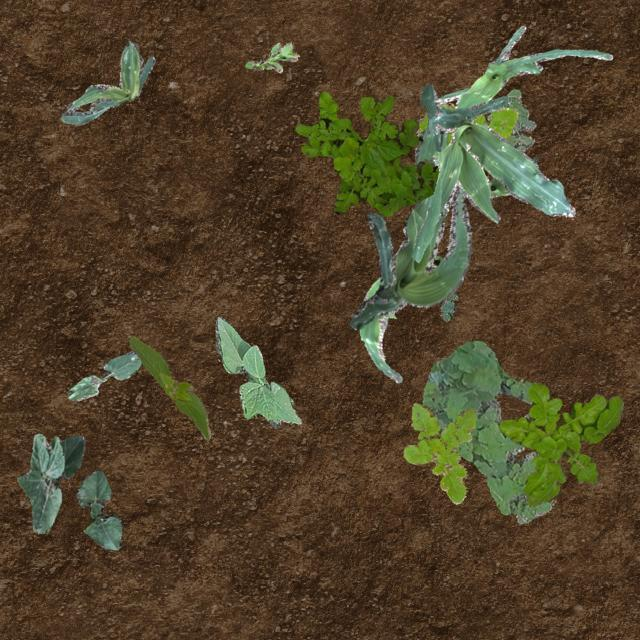crop: (348, 82, 470, 328), (410, 95, 574, 262), (432, 24, 612, 109), (214, 316, 300, 428), (128, 336, 210, 438), (59, 39, 154, 124), (15, 432, 84, 532), (358, 274, 401, 382), (66, 350, 140, 400), (76, 468, 121, 550), (488, 156, 538, 198), (431, 250, 438, 268)
weed: (422, 340, 552, 522), (294, 90, 438, 216), (498, 382, 622, 506), (402, 402, 474, 502), (414, 101, 518, 146), (486, 88, 534, 152), (244, 42, 298, 72), (439, 290, 456, 320)
